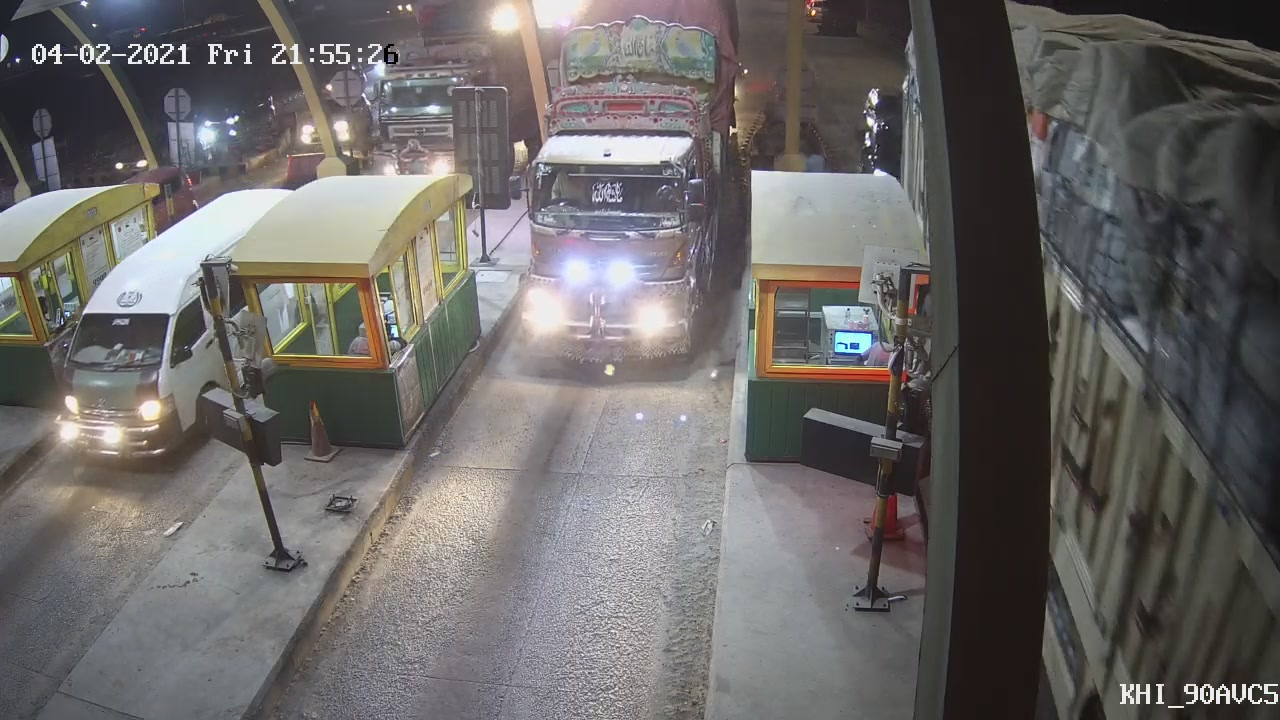F5: (494, 1, 750, 373)
